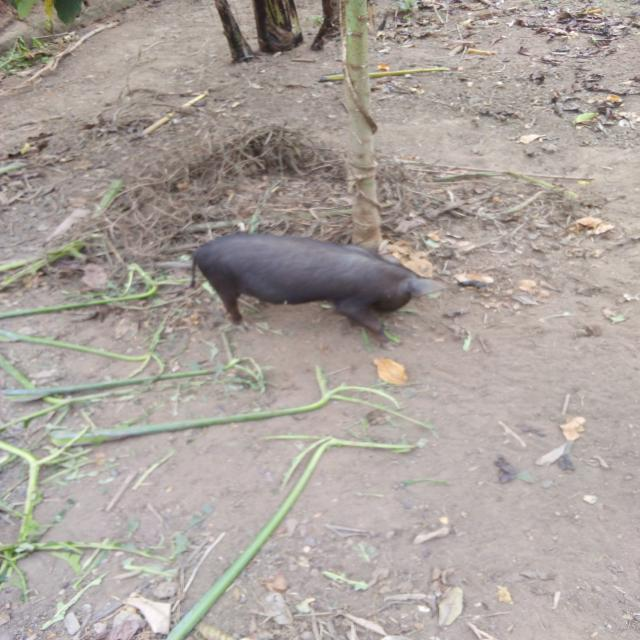pig: (150, 187, 488, 386)
